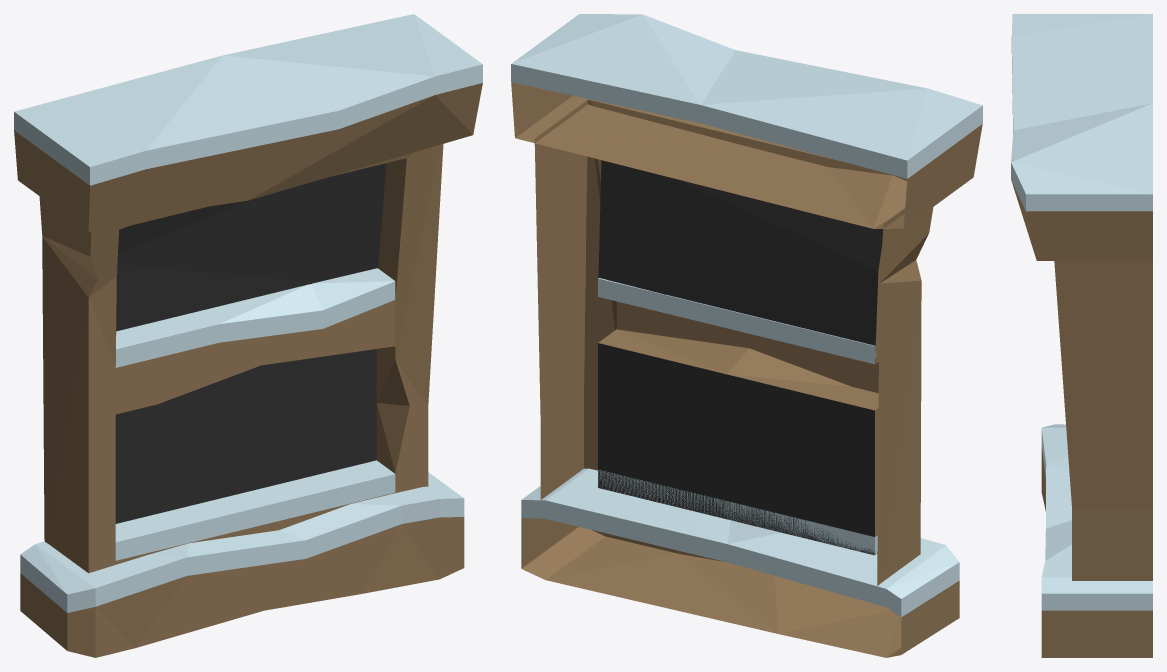
File: SM_Bld_House_Window_04_Snow.gltf
3 views of the same model, side by side, from view 1: azimuth 30°, elevation 25°; view 2: azimuth 150°, elevation 25°; view 3: azimuth 270°, elevation 25° (orthographic). The views are drawn at different scales.
Visible parts, largest first — view 1: SM_Bld_House_Window_04_Snow; view 2: SM_Bld_House_Window_04_Snow; view 3: SM_Bld_House_Window_04_Snow.
Part boxes in pixels (x1,y1,x2,y2): SM_Bld_House_Window_04_Snow: (14, 14, 482, 657); SM_Bld_House_Window_04_Snow: (511, 14, 982, 657); SM_Bld_House_Window_04_Snow: (1011, 14, 1152, 657).
Bounding box in the file's own units: 0.9771 × 1.21 × 0.3253.
Materials: 1 (1 with a texture image).
